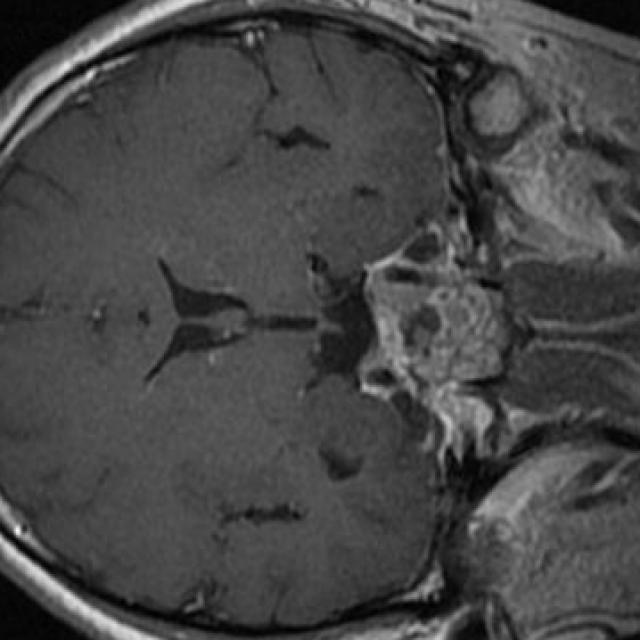pituitary: (365, 283, 419, 369)
